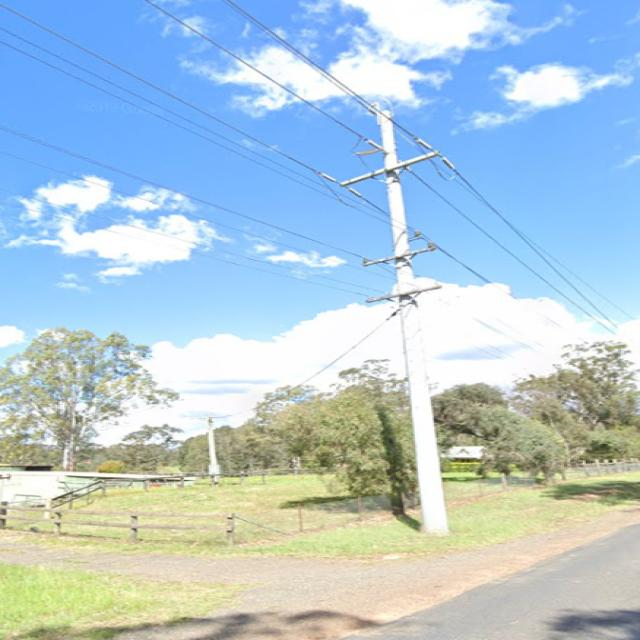HV-transmission: (321, 103, 455, 196)
crossarm: (339, 150, 440, 187), (361, 246, 434, 266), (366, 284, 438, 303)
timber-pole: (377, 108, 450, 532)
